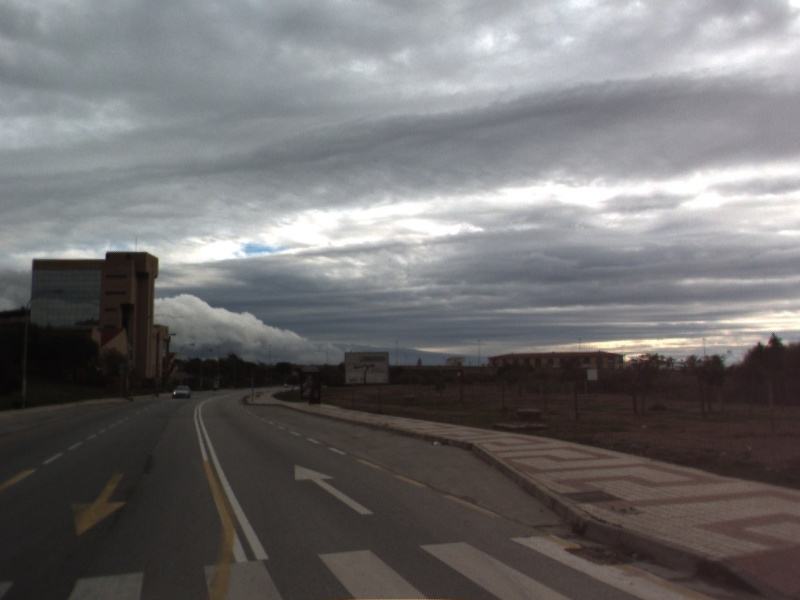STRAIGHT: (293, 462, 376, 516)
